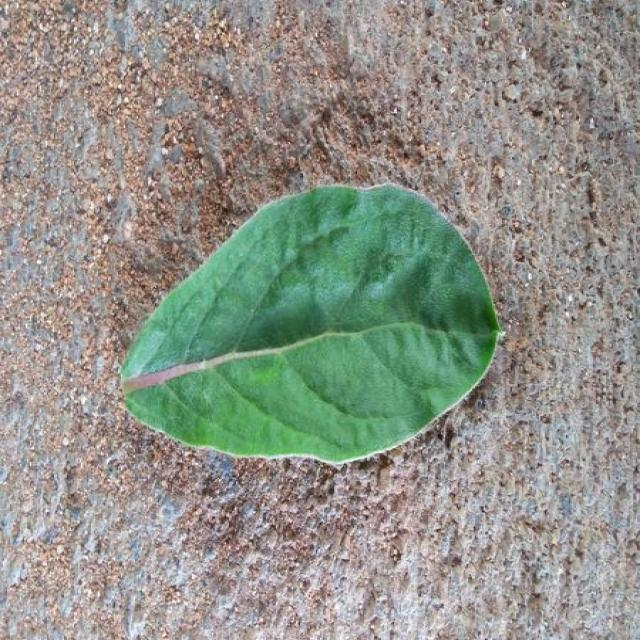globe amarnath: (122, 185, 500, 462)
